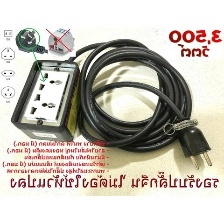three_eye_plug: (9, 55, 87, 145)
